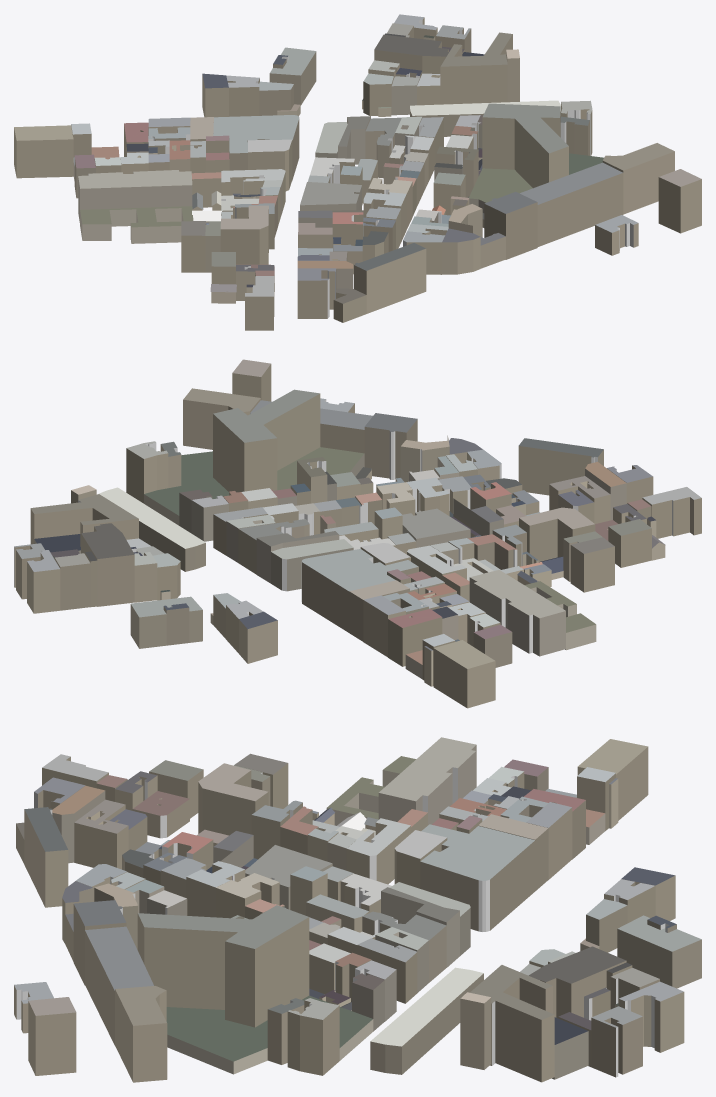
3 renders of one model, top to bottom at view 1: azimuth 30°, elevation 25°; view 2: azimuth 150°, elevation 25°; view 3: azimuth 270°, elevation 25°, orthographic. The views are drawn at different scales.
Parts seen in each view (by area): view 1: tuile; view 2: tuile; view 3: tuile.
Boxes of the visible parts, left/top/right/bottom form: tuile: left=14, top=14, right=701, bottom=330; tuile: left=14, top=359, right=701, bottom=708; tuile: left=14, top=737, right=701, bottom=1082.
Size of the model in its own units: 287 by 42.07 by 271.
